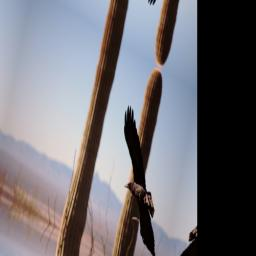Crow: (102, 101, 180, 256)
